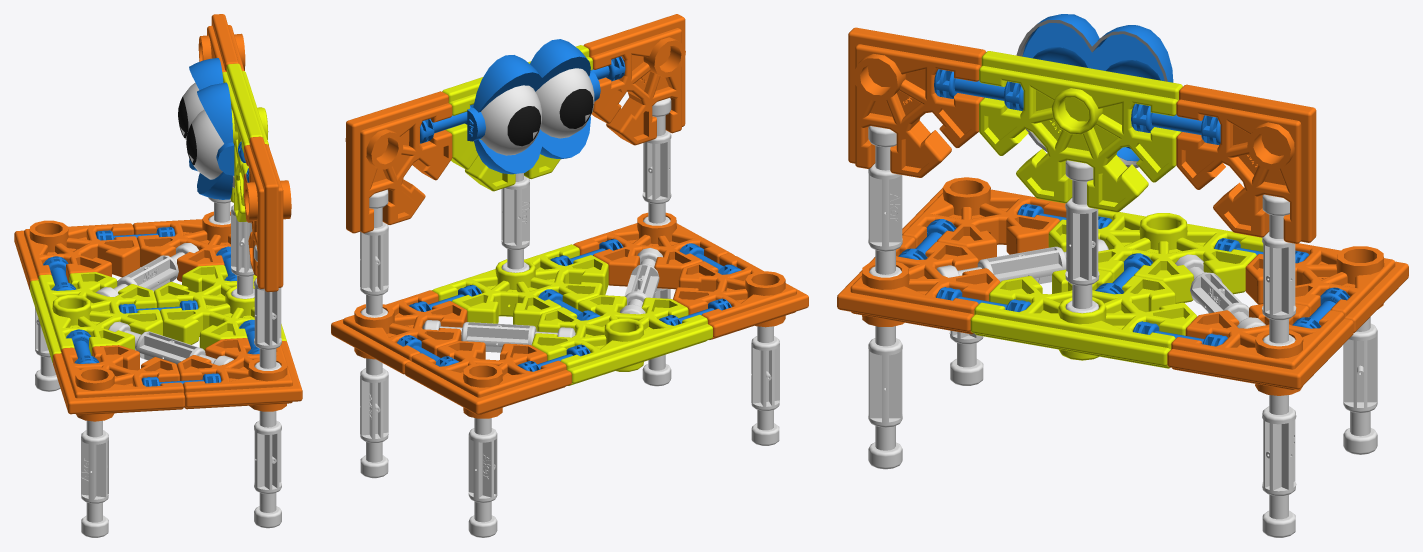
3 renders of one model, left to right at view 1: azimuth 30°, elevation 25°; view 2: azimuth 150°, elevation 25°; view 3: azimuth 270°, elevation 25°, orthographic. The views are drawn at different scales.
Visible parts, largest first — view 1: Untitled.052, Untitled.049, Untitled.039, Untitled.045, Untitled.056, Untitled.031, Untitled.041, Untitled.030, Untitled.033, Untitled.038, Untitled.053, Untitled.046 (+15 smaller); view 2: Untitled.035, Untitled.049, Untitled.031, Untitled.056, Untitled.045, Untitled.052, Untitled.041, Untitled.039, Untitled.033, Untitled.037, Untitled.053, Untitled.040 (+13 smaller); view 3: Untitled.033, Untitled.035, Untitled.031, Untitled.045, Untitled.041, Untitled.039, Untitled.049, Untitled.052, Untitled.056, transform1.001, Untitled.038, Untitled.046 (+14 smaller).
Boxes of the visible parts, left/top/right/bottom form: Untitled.052: left=53, top=345, right=185, bottom=421; Untitled.049: left=30, top=272, right=162, bottom=362; Untitled.039: left=177, top=338, right=302, bottom=411; Untitled.045: left=154, top=265, right=286, bottom=350; Untitled.056: left=14, top=220, right=139, bottom=289; Untitled.031: left=244, top=136, right=291, bottom=291; Untitled.041: left=132, top=211, right=230, bottom=281; Untitled.030: left=189, top=58, right=234, bottom=199; Untitled.033: left=222, top=63, right=268, bottom=221; Untitled.038: left=254, top=411, right=281, bottom=528; Untitled.053: left=81, top=420, right=108, bottom=537; Untitled.046: left=254, top=245, right=281, bottom=370; Untitled.035: left=345, top=91, right=452, bottom=233; Untitled.049: left=531, top=295, right=712, bottom=385; Untitled.031: left=583, top=14, right=685, bottom=145; Untitled.056: left=404, top=341, right=571, bottom=418; Untitled.045: left=431, top=244, right=608, bottom=331; Untitled.052: left=673, top=253, right=808, bottom=339; Untitled.041: left=331, top=290, right=467, bottom=374; Untitled.039: left=573, top=212, right=734, bottom=289; Untitled.033: left=442, top=45, right=592, bottom=191; Untitled.037: left=468, top=418, right=497, bottom=537; Untitled.053: left=751, top=326, right=779, bottom=445; Untitled.040: left=360, top=358, right=388, bottom=478; Untitled.033: left=979, top=51, right=1182, bottom=212; Untitled.035: left=1176, top=84, right=1316, bottom=243; Untitled.031: left=848, top=27, right=985, bottom=177; Untitled.045: left=970, top=269, right=1196, bottom=368; Untitled.041: left=1167, top=304, right=1353, bottom=395; Untitled.039: left=837, top=235, right=1000, bottom=334; Untitled.049: left=1048, top=209, right=1263, bottom=303; Untitled.052: left=902, top=177, right=1066, bottom=261; Untitled.056: left=1245, top=243, right=1408, bottom=332; transform1.001: left=1022, top=22, right=1164, bottom=161; Untitled.038: left=868, top=326, right=902, bottom=469; Untitled.046: left=868, top=126, right=902, bottom=277.
Bounding box in the file's own units: 1.33 × 1.49 × 1.66.
